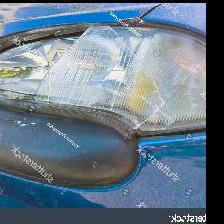head_lamp: (1, 21, 152, 118)
